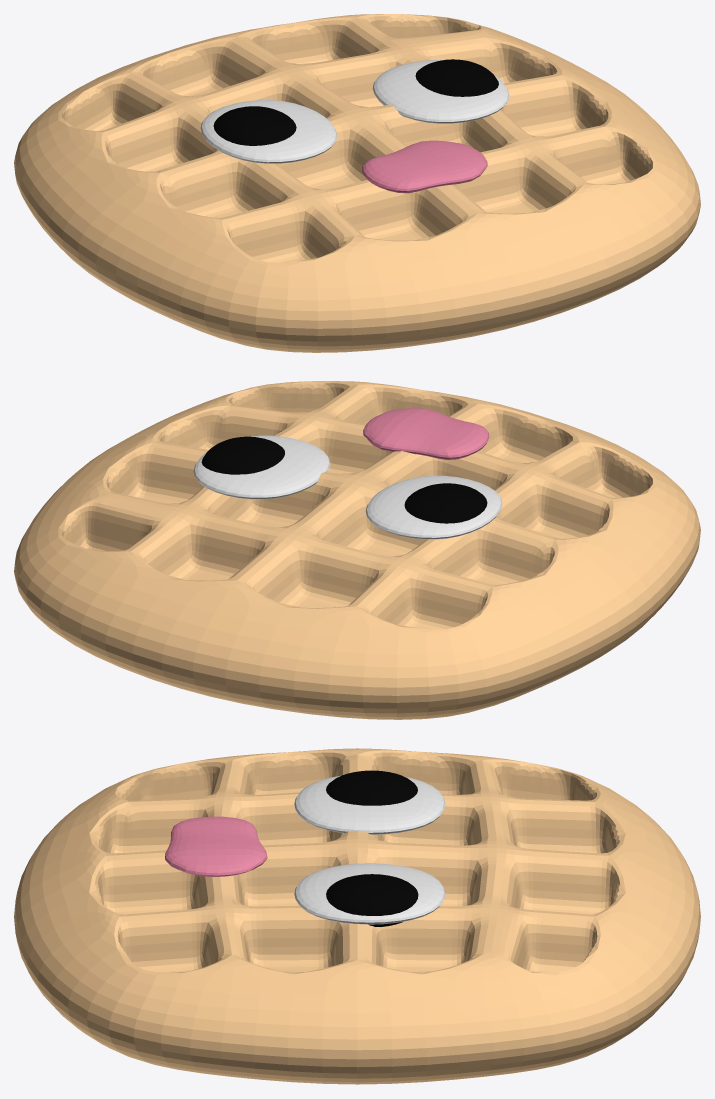
File: gauffre.fbx
The picture shows the model from 3 angles, top to bottom: view 1: azimuth 30°, elevation 25°; view 2: azimuth 150°, elevation 25°; view 3: azimuth 270°, elevation 25°; orthographic projection. The views are drawn at different scales.
Parts seen in each view (by area): view 1: gauffre, Cube.003, blanc, blanc.001, Cube.001, Cube.004; view 2: gauffre, Cube.003, blanc, blanc.001, Cube.001, Cube.004; view 3: gauffre, blanc.001, Cube.003, blanc, Cube.004, Cube.001.
Part boxes in pixels (<box>): gauffre: <box>14,14,700,352</box>; Cube.003: <box>362,140,487,193</box>; blanc: <box>372,60,509,123</box>; blanc.001: <box>200,100,337,163</box>; Cube.001: <box>213,106,296,145</box>; Cube.004: <box>415,59,498,96</box>; gauffre: <box>14,381,700,719</box>; Cube.003: <box>363,408,489,459</box>; blanc: <box>193,435,330,499</box>; blanc.001: <box>365,475,502,539</box>; Cube.001: <box>404,483,487,523</box>; Cube.004: <box>201,436,284,474</box>; gauffre: <box>14,748,700,1084</box>; blanc.001: <box>294,775,445,834</box>; Cube.003: <box>165,816,267,876</box>; blanc: <box>294,863,445,924</box>; Cube.004: <box>326,874,418,926</box>; Cube.001: <box>326,770,417,805</box>.
Bounding box in the file's own units: 219 × 61.95 × 223.
